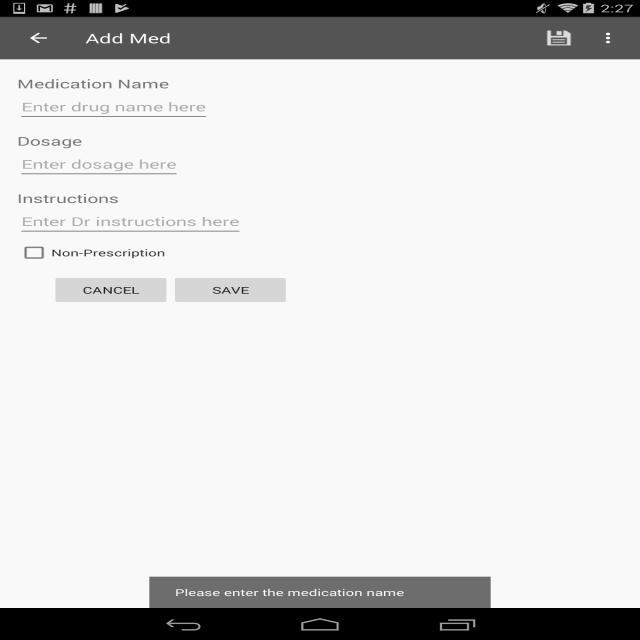Button: (51, 274, 171, 306), (171, 274, 290, 306)
CheckBox: (17, 242, 165, 263)
EditText: (17, 206, 244, 237), (17, 92, 210, 122), (17, 149, 181, 179)
ImageButton: (9, 17, 68, 59)
ImageView: (589, 22, 631, 54)
TextView: (17, 75, 169, 92), (529, 22, 589, 54), (17, 190, 119, 206), (86, 29, 172, 47), (17, 133, 82, 149)
